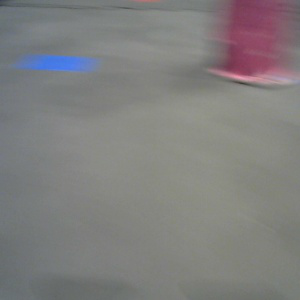Right: (203, 1, 300, 88)
